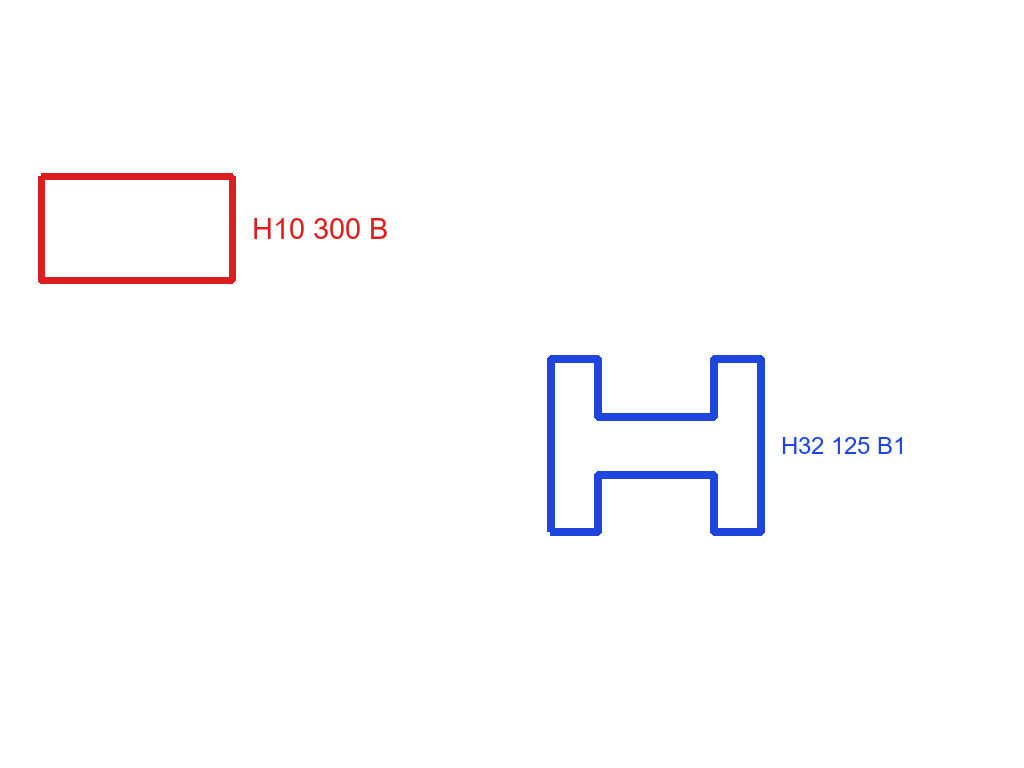shape: (545, 354, 767, 538), (36, 171, 238, 286)
text: (250, 216, 390, 241), (779, 435, 908, 456)
